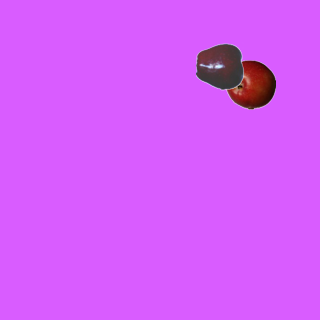Apple Braeburn: (225, 59, 275, 109)
Apple Red Delicious: (195, 41, 245, 91)
